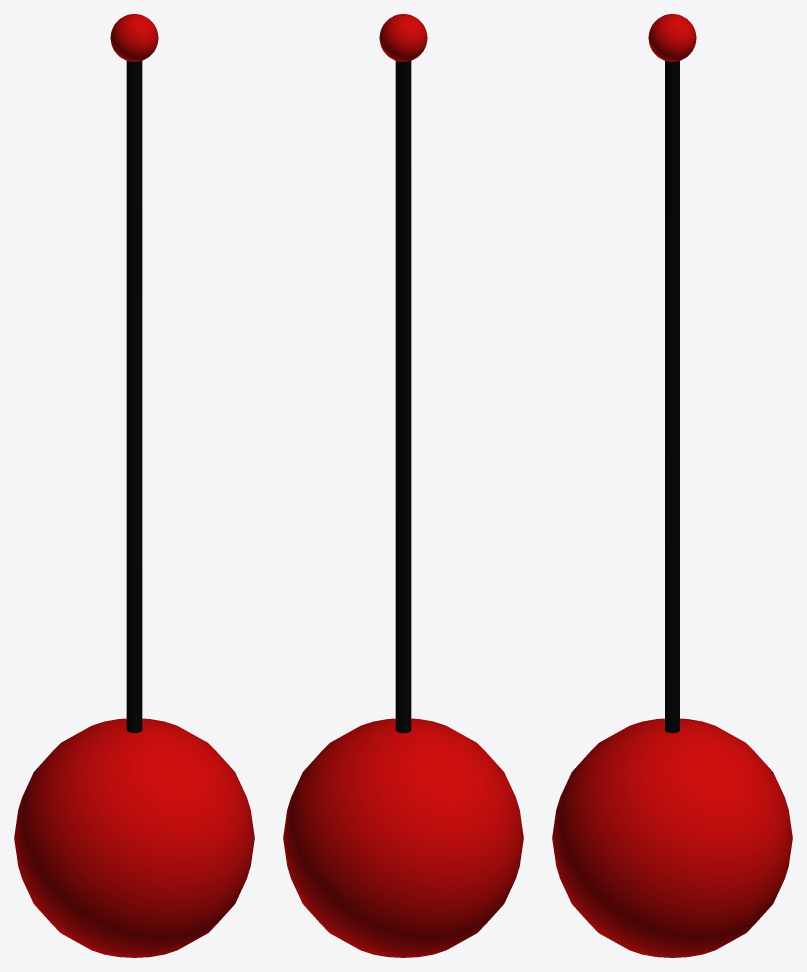
The model's file is ob_conlac.fbx.
The picture shows the model from 3 angles, left to right: view 1: azimuth 30°, elevation 25°; view 2: azimuth 150°, elevation 25°; view 3: azimuth 270°, elevation 25°; orthographic projection.
Visible parts, largest first — view 1: conlac; view 2: conlac; view 3: conlac.
Boxes of the visible parts, box(x1,y1,x2,y2) form: conlac: box(14, 14, 254, 957); conlac: box(283, 14, 523, 957); conlac: box(552, 14, 792, 957).
Size of the model in its own units: 60 by 256 by 60.
